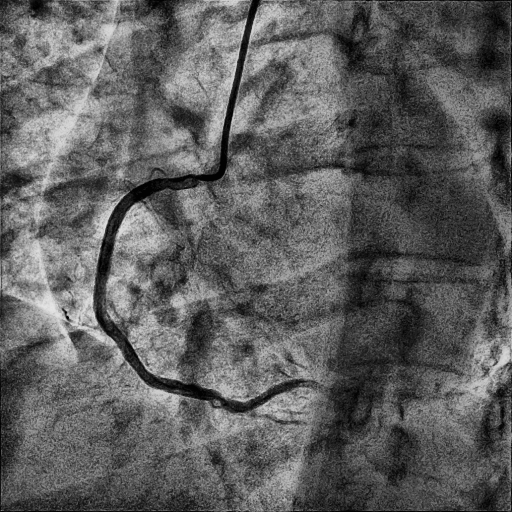pborca: (249, 379, 335, 408)
rca: (94, 175, 253, 413)
